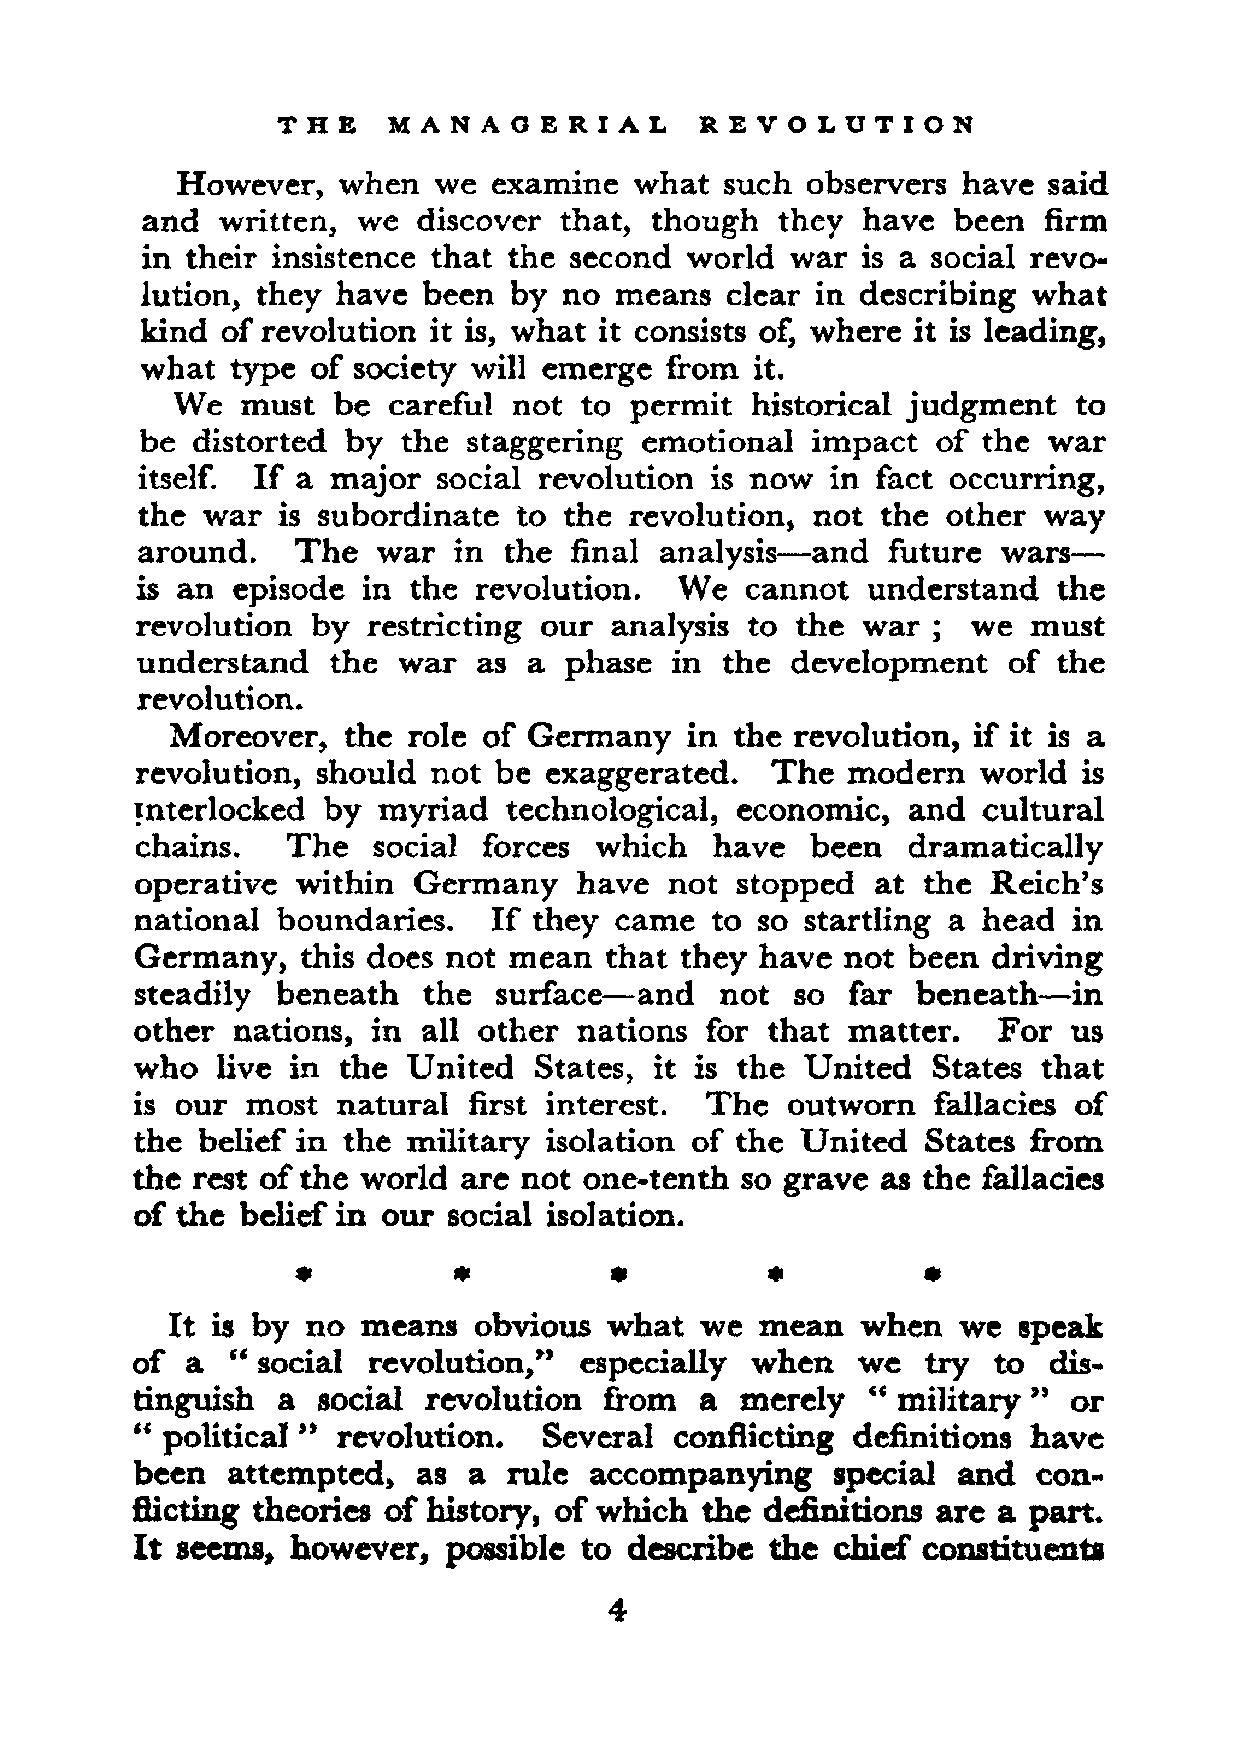chapter: (272, 107, 976, 137)
content: (129, 166, 1110, 1567)
content_pagenumber: (604, 1593, 631, 1627)
